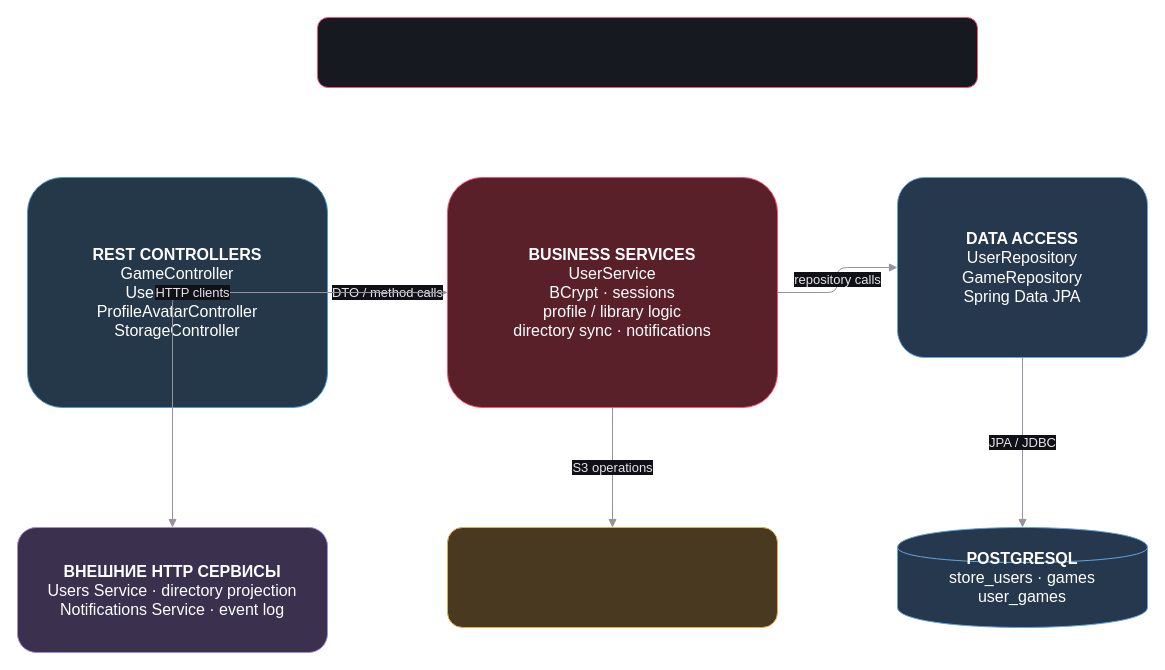
Some shapes in this 1165 by 670 pixel diagram are drawn without their labels. Each missing label, with the box of its shape:
C4 · LEVEL 3 — GAME STORE COMPONENTS: (316, 16, 978, 88)
S3StorageService SeaweedFS · signed URLs: (446, 526, 778, 628)
